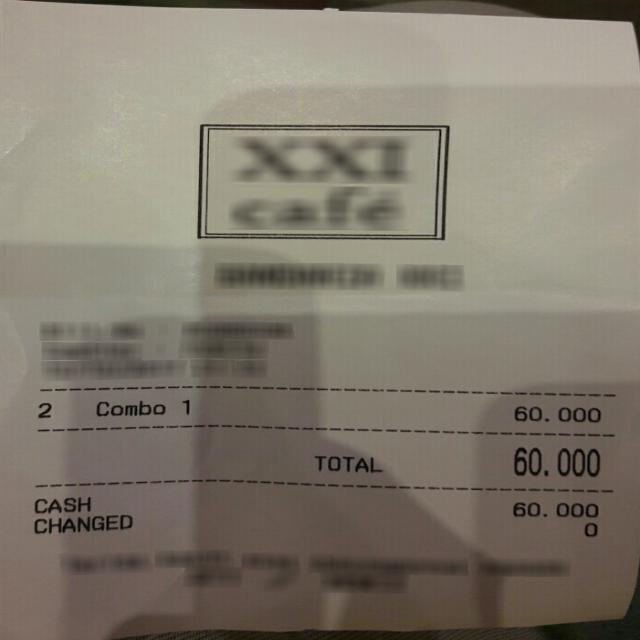text: (513, 446, 603, 477), (33, 512, 131, 534), (513, 406, 606, 424), (511, 502, 596, 518), (313, 455, 382, 472), (94, 400, 163, 416), (33, 496, 90, 512), (33, 402, 54, 419), (581, 520, 598, 538), (180, 398, 192, 416)
